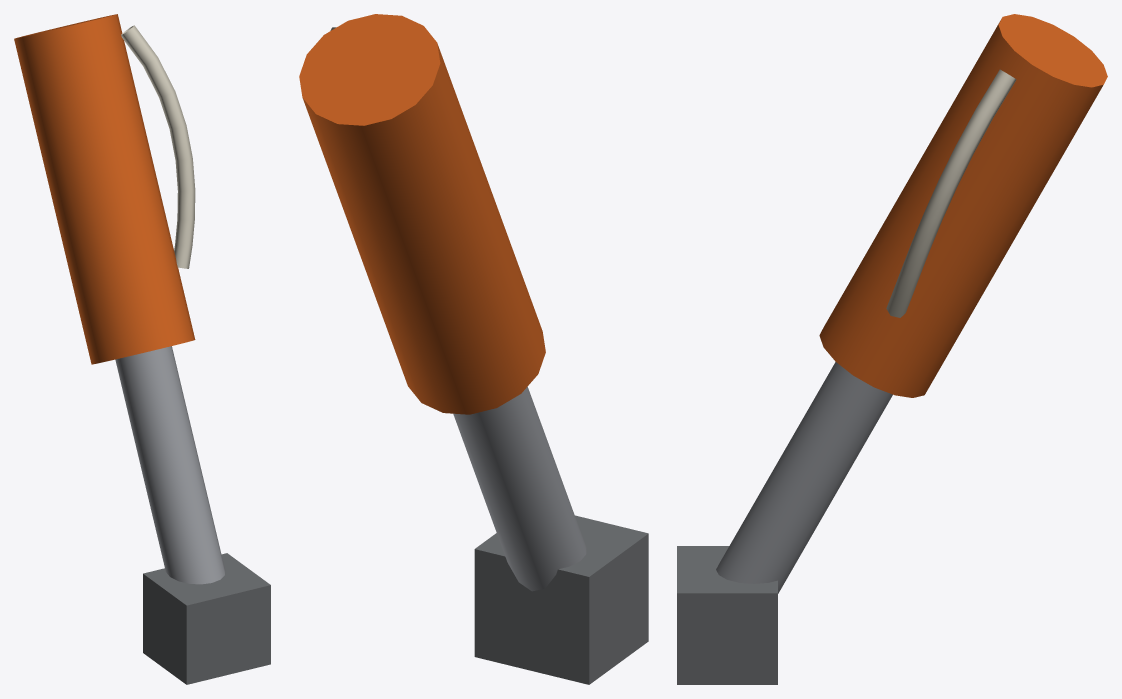
The model's file is po4_actuator.obj.
The picture shows the model from 3 angles, left to right: view 1: azimuth 30°, elevation 25°; view 2: azimuth 150°, elevation 25°; view 3: azimuth 270°, elevation 25°; orthographic projection. The views are drawn at different scales.
Parts seen in each view (by area): view 1: po4_actuator; view 2: po4_actuator; view 3: po4_actuator.
Boxes of the visible parts, bbox=[...] form: po4_actuator: bbox=[14, 14, 270, 684]; po4_actuator: bbox=[299, 14, 648, 684]; po4_actuator: bbox=[677, 14, 1107, 684].
Bounding box in the file's own units: 0.2836 × 1.25 × 0.7675.
